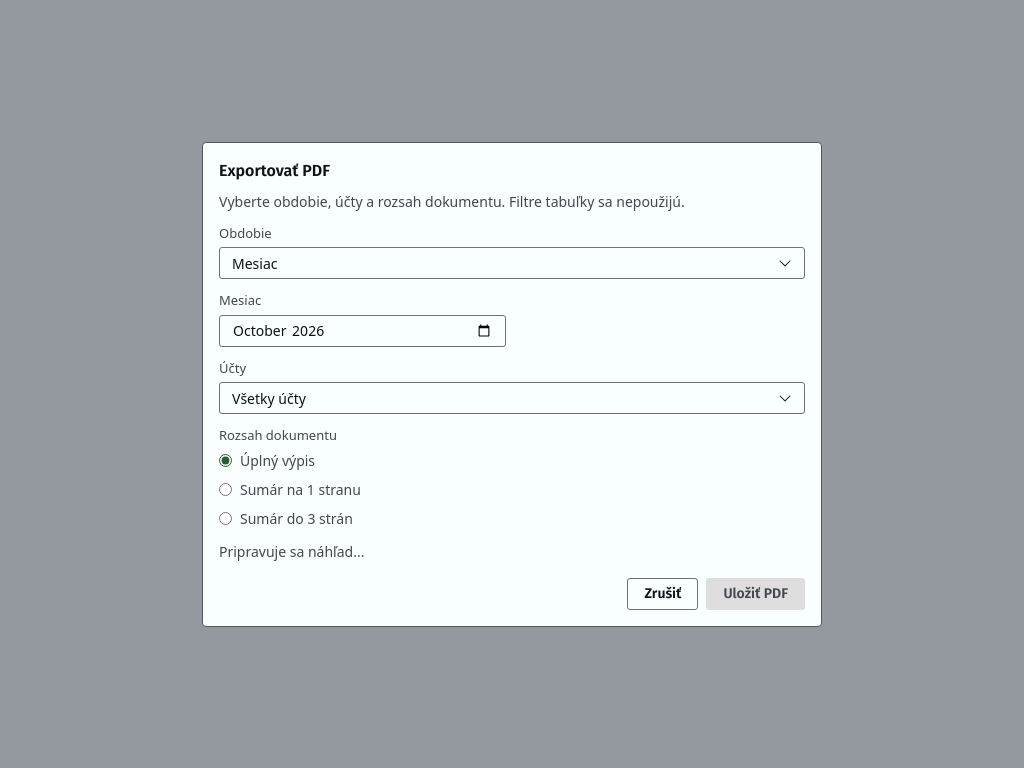
Test: ExportPdfDialog: P16 native save and stale state › does not let a late first preview replace the latest selected scope
Select "Firemné účty" in the dropdown labelled "Účty" at [512, 398], box x1=219 y1=382 x2=805 y2=414
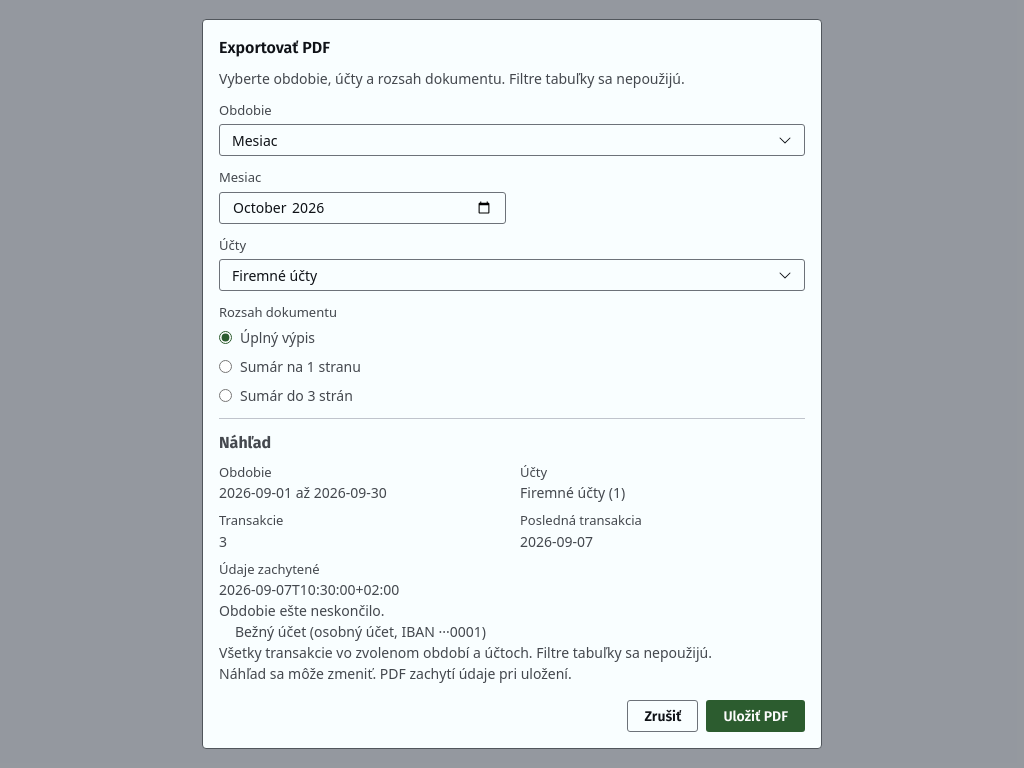
Check: the text "Firemné účty (1)" is shown, box x1=520 y1=483 x2=625 y2=502
